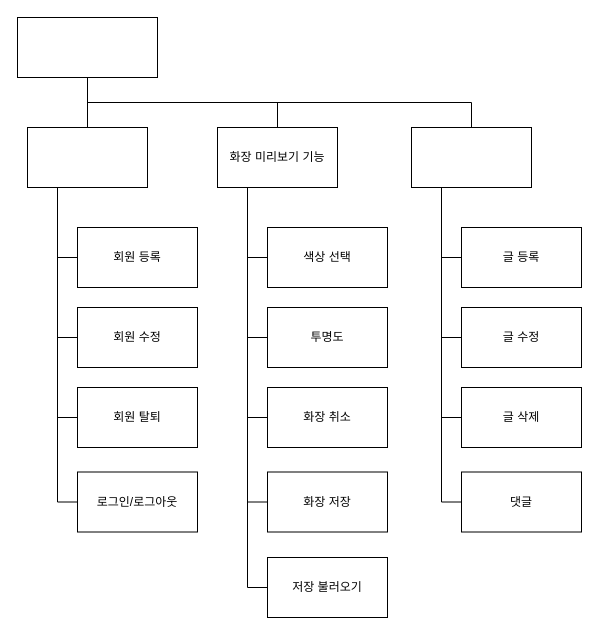
This 599x635 diagram has some shape labels left out. The shapes that lost their labels are listed below. From the top down, each one's centre as x and y in pixels, then its label:
At point (87, 47): "화장 미리보기 사이트".
At point (87, 157): "회원 관리".
At point (471, 157): "게시판".
